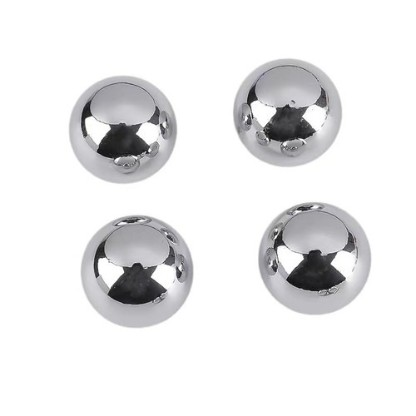ironball: (257, 200, 371, 315), (79, 213, 193, 327), (232, 57, 341, 167), (68, 74, 177, 183)
